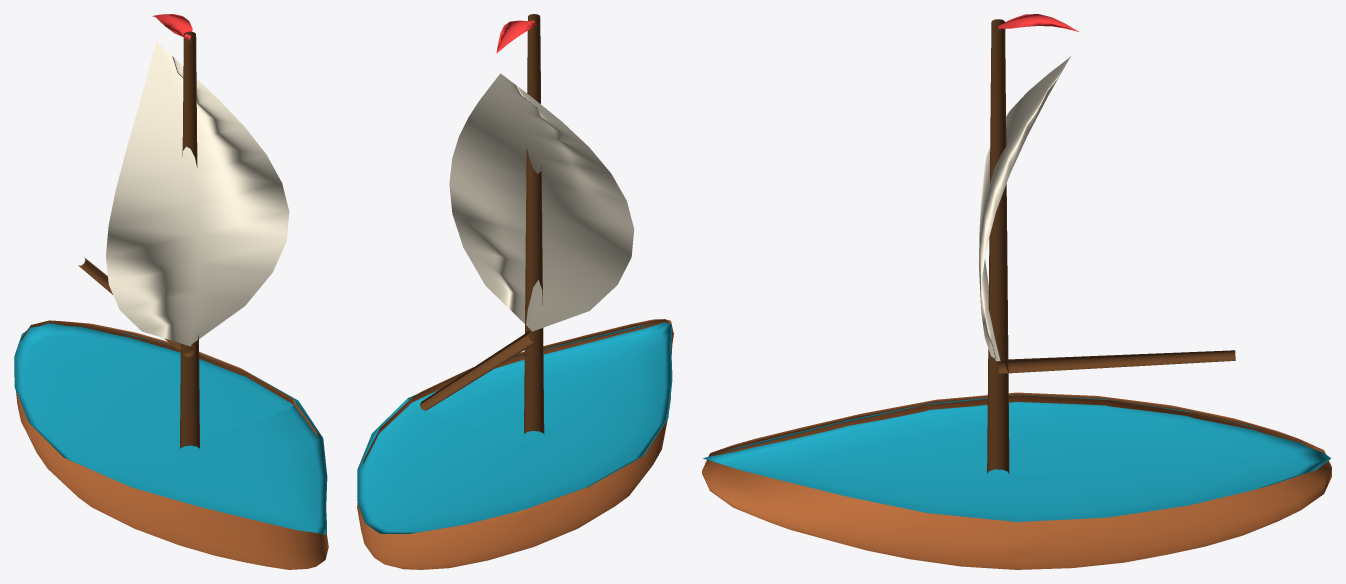
The model's file is sailboat.glb.
3 views of the same model, side by side, from view 1: azimuth 30°, elevation 25°; view 2: azimuth 150°, elevation 25°; view 3: azimuth 270°, elevation 25° (orthographic). The views are drawn at different scales.
Visible parts, largest first — view 1: Sailboat; view 2: Sailboat; view 3: Sailboat.
Boxes of the visible parts, left/top/right/bottom form: Sailboat: left=14, top=14, right=328, bottom=569; Sailboat: left=357, top=14, right=673, bottom=569; Sailboat: left=702, top=14, right=1331, bottom=569.
Size of the model in its own units: 2.36 by 4.69 by 5.05.
